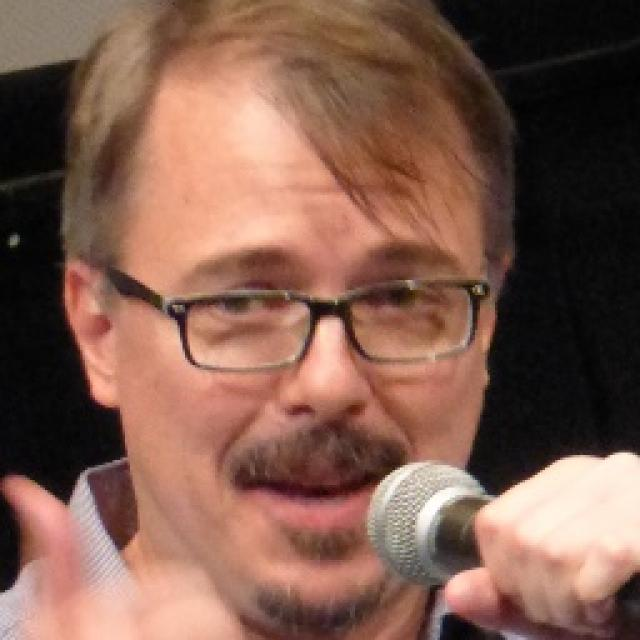earlobe: (87, 379, 121, 411), (481, 364, 495, 394)
eye: (361, 281, 444, 317), (204, 289, 285, 325)
nose: (280, 412, 368, 457)
wholeear: (63, 256, 124, 408), (482, 245, 518, 395)
